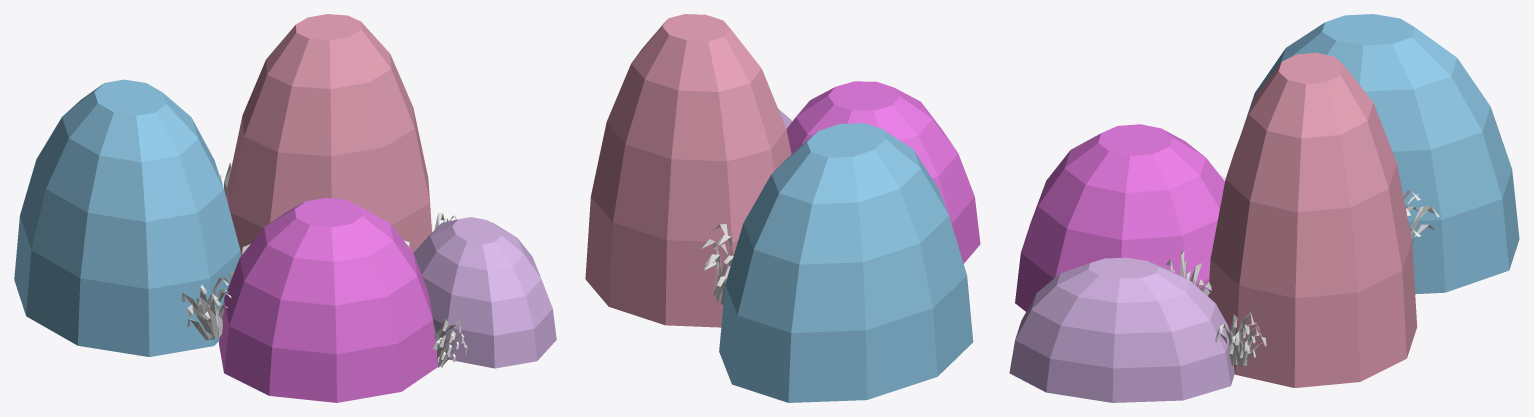
File: MountainJumpingPuzzle.fbx
The picture shows the model from 3 angles, left to right: view 1: azimuth 30°, elevation 25°; view 2: azimuth 150°, elevation 25°; view 3: azimuth 270°, elevation 25°; orthographic projection. The views are drawn at different scales.
Visible parts, largest first — view 1: Sphere.004, Sphere.005, Sphere.003, Sphere.002, Cube.031, Cube.024; view 2: Sphere.004, Sphere.003, Sphere.005, Cube.032; view 3: Sphere.003, Sphere.004, Sphere.002, Sphere.005, Cube.027, Cube.026, Cube.032, Cube.028.
Boxes of the visible parts, <box> form: Sphere.004: <box>14,79,240,356</box>; Sphere.005: <box>219,198,438,402</box>; Sphere.003: <box>226,14,431,253</box>; Sphere.002: <box>413,217,556,368</box>; Cube.031: <box>182,277,231,340</box>; Cube.024: <box>433,333,467,367</box>; Sphere.004: <box>719,123,973,402</box>; Sphere.003: <box>585,14,791,327</box>; Sphere.005: <box>786,81,980,263</box>; Cube.032: <box>701,224,733,304</box>; Sphere.003: <box>1208,52,1417,387</box>; Sphere.004: <box>1243,14,1519,294</box>; Sphere.002: <box>1009,257,1234,402</box>; Sphere.005: <box>1015,124,1224,311</box>; Cube.027: <box>1215,311,1261,365</box>; Cube.026: <box>1228,326,1266,366</box>; Cube.032: <box>1403,190,1439,242</box>; Cube.028: <box>1166,250,1211,295</box>.
Bounding box in the file's own units: 381 × 238 × 397.
